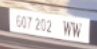0: (41, 17, 46, 32), (22, 15, 27, 28)
2: (35, 16, 42, 32), (46, 19, 52, 33)
6: (14, 14, 22, 28)
7: (26, 15, 33, 30)
w: (71, 21, 84, 38), (62, 18, 71, 37)
